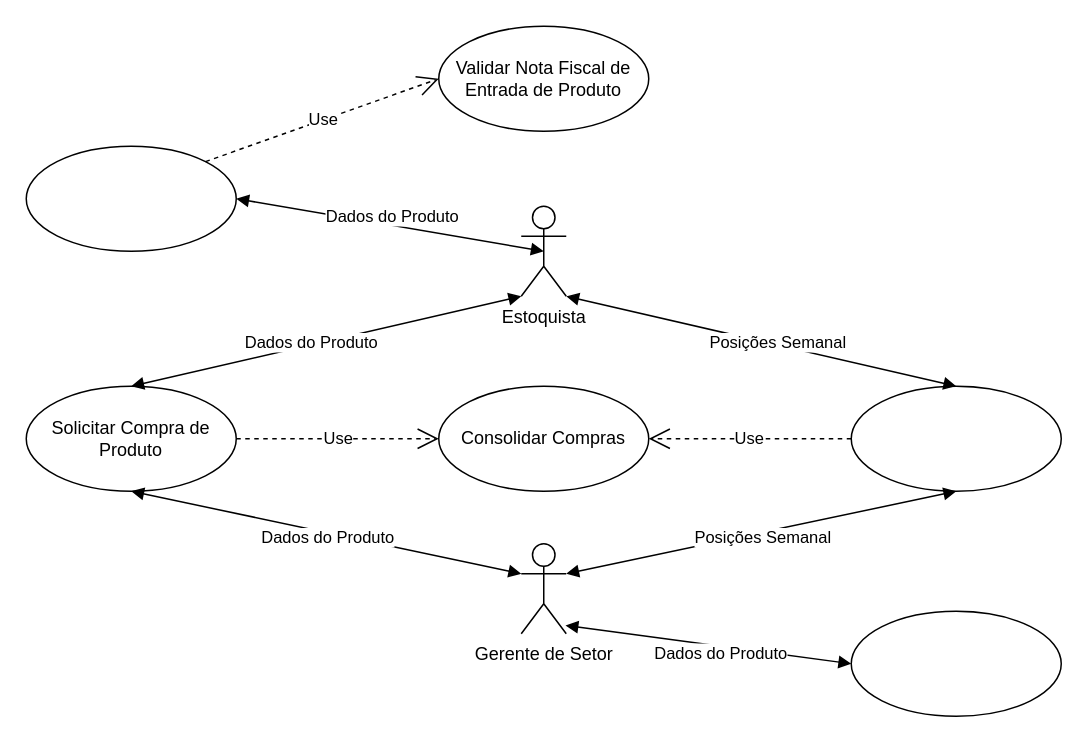
This 1088x743 diagram has some shape labels left out. Each missing label, with the box of its shape:
Autorizar Compra de Produtos: (850, 610, 1061, 716)
Emitir Relátoro de Posição Semanal: (850, 385, 1061, 491)
Registrar Entrada de Produto: (25, 145, 236, 251)
